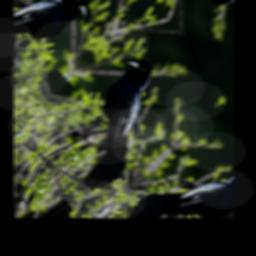Crow: (44, 50, 193, 198)
